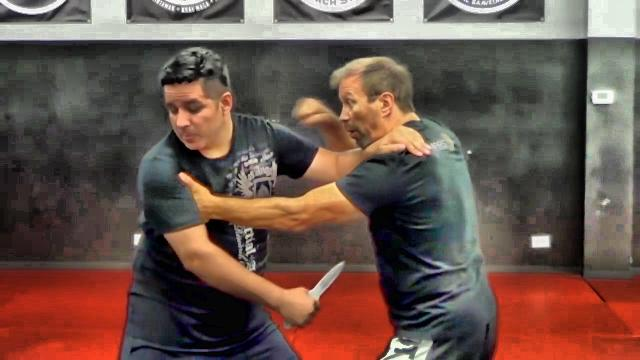knife: (278, 256, 346, 332)
